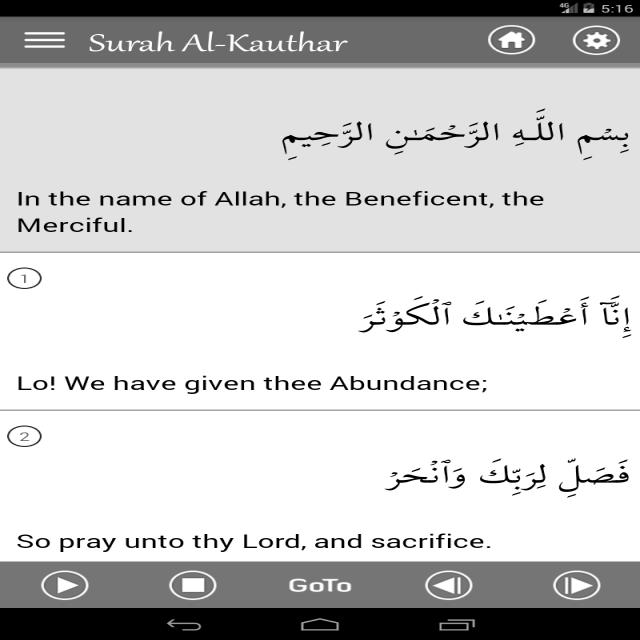ImageButton: (36, 564, 114, 608), (166, 569, 255, 607), (570, 20, 628, 61), (480, 24, 546, 56), (560, 570, 614, 604), (422, 565, 468, 595), (17, 29, 75, 52)
TextView: (9, 191, 545, 237), (254, 107, 634, 163), (9, 363, 514, 400), (20, 524, 498, 554), (372, 454, 631, 494), (335, 299, 628, 329), (84, 31, 361, 57), (282, 575, 365, 599)
